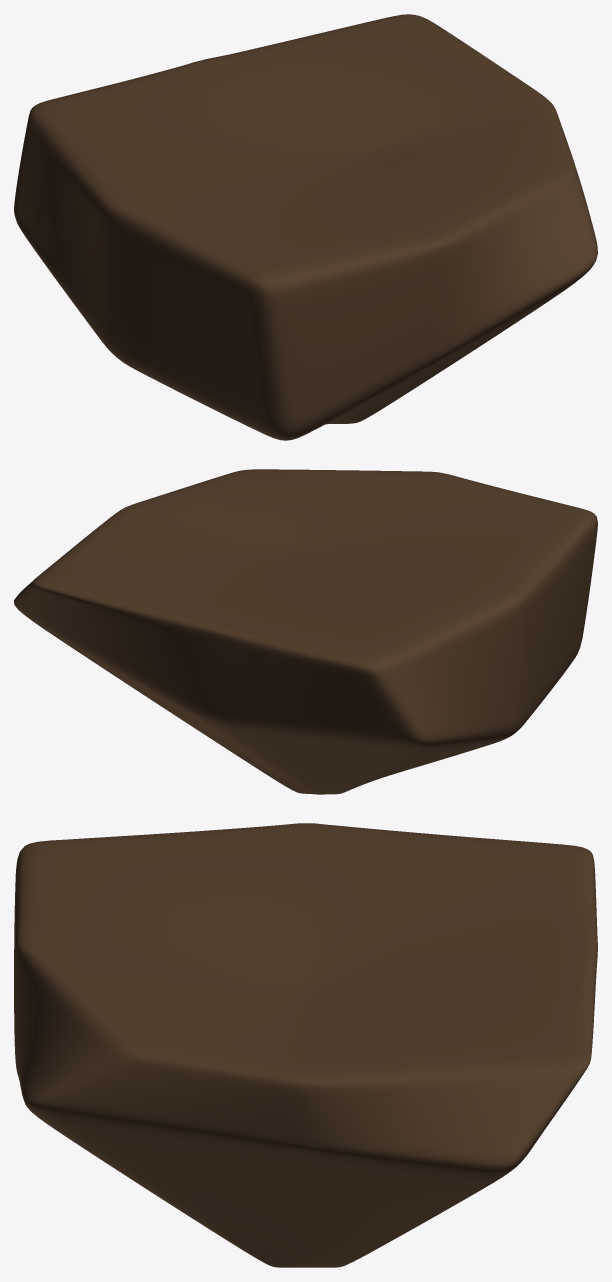
The model's file is Ground02.FBX.
3 views of the same model, one above another, from view 1: azimuth 30°, elevation 25°; view 2: azimuth 150°, elevation 25°; view 3: azimuth 270°, elevation 25° (orthographic). The views are drawn at different scales.
Parts seen in each view (by area): view 1: Rock02; view 2: Rock02; view 3: Rock02.
Boxes of the visible parts, x1=… form: Rock02: x1=14, y1=14, x2=597, y2=440; Rock02: x1=14, y1=469, x2=597, y2=794; Rock02: x1=14, y1=823, x2=597, y2=1267.
Bounding box in the file's own units: 111 × 59.28 × 99.55.
